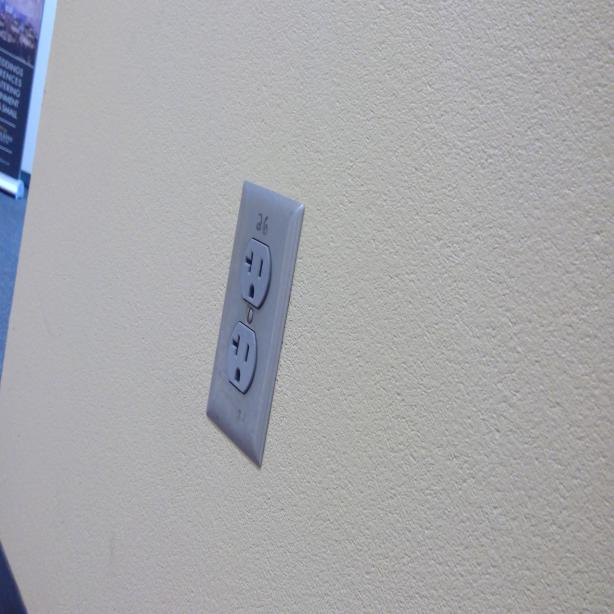typeb: (226, 326, 257, 392), (239, 238, 271, 300)
